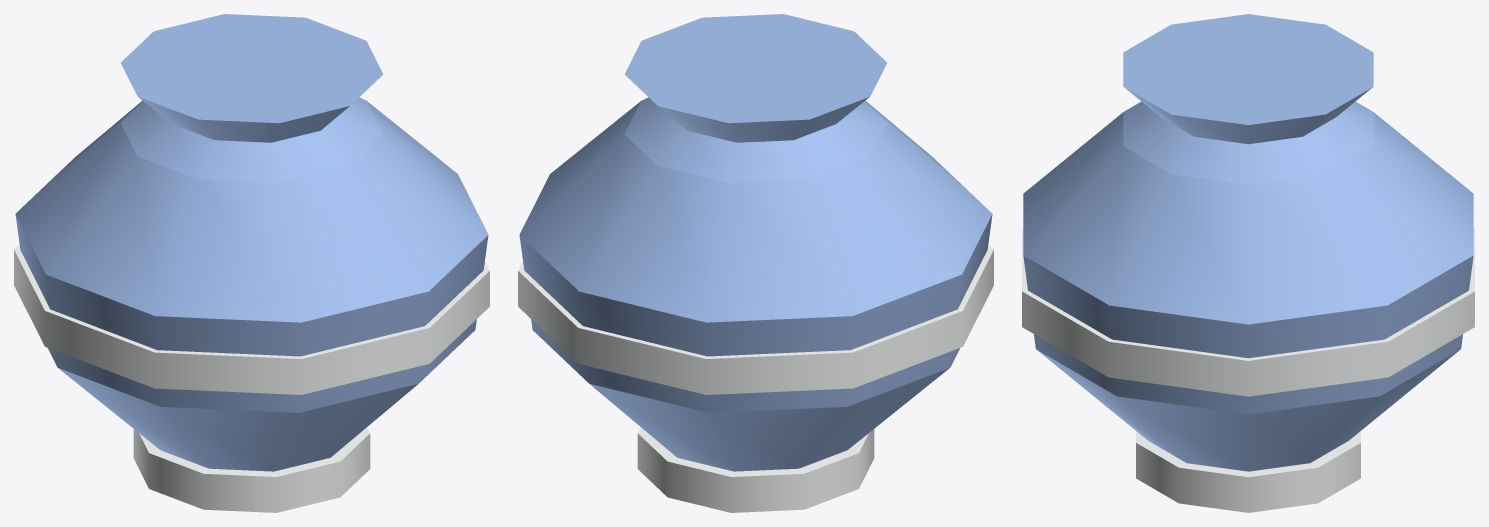
Rendered from vaseRound.glb.
3 views of the same model, side by side, from view 1: azimuth 30°, elevation 25°; view 2: azimuth 150°, elevation 25°; view 3: azimuth 270°, elevation 25° (orthographic).
Parts seen in each view (by area): view 1: vaseRound; view 2: vaseRound; view 3: vaseRound.
Part boxes in pixels (bbox=[...]): vaseRound: bbox=[14, 14, 489, 512]; vaseRound: bbox=[518, 14, 993, 512]; vaseRound: bbox=[1022, 14, 1474, 512].
Size of the model in its own units: 0.181 by 0.165 by 0.1721.
